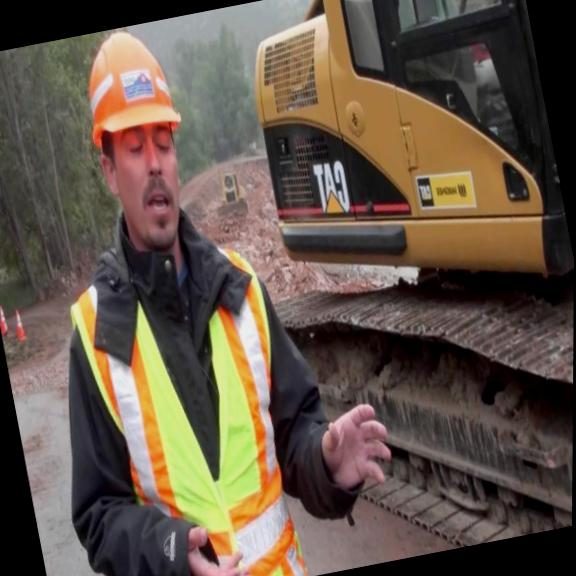safety_vest: (61, 236, 319, 576)
